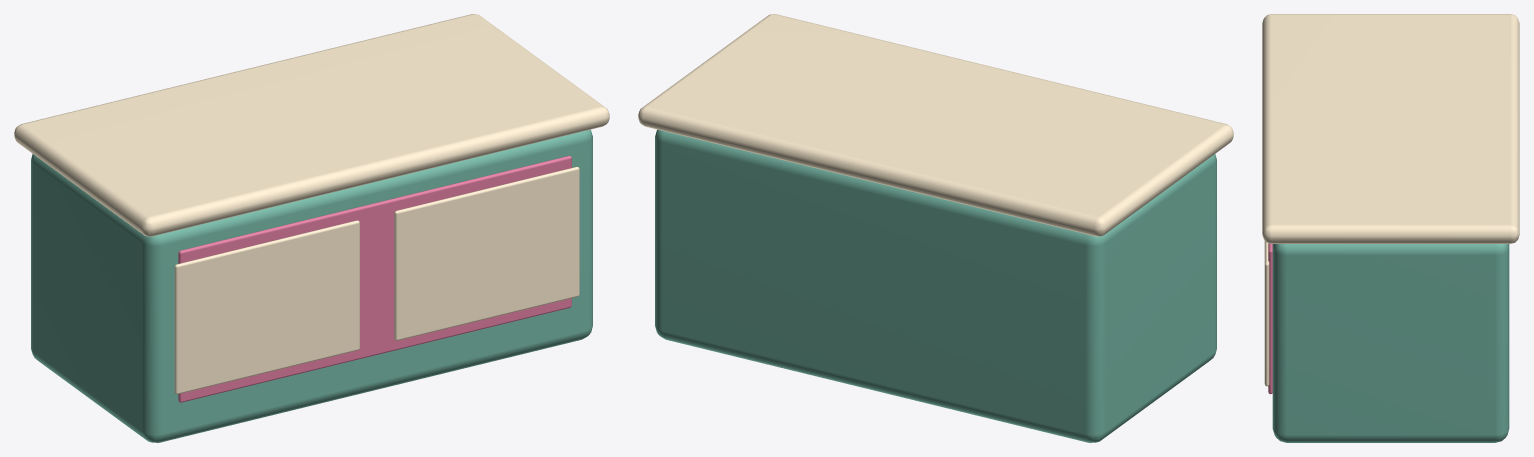
The model's file is Service_counter.fbx.
The picture shows the model from 3 angles, left to right: view 1: azimuth 30°, elevation 25°; view 2: azimuth 150°, elevation 25°; view 3: azimuth 270°, elevation 25°; orthographic projection. The views are drawn at different scales.
Visible parts, largest first — view 1: Toon_Service_counter Countertop.001, Toon_Service_counter Counter cabinet.001, Toon_Service_counter Raised cream trim.002, Toon_Service_counter Raised cream trim.003, Toon_Service_counter Front inset.001; view 2: Toon_Service_counter Counter cabinet.001, Toon_Service_counter Countertop.001; view 3: Toon_Service_counter Countertop.001, Toon_Service_counter Counter cabinet.001, Toon_Service_counter Raised cream trim.003, Toon_Service_counter Front inset.001.
Boxes of the visible parts, bbox=[...] form: Toon_Service_counter Countertop.001: bbox=[14, 14, 609, 236]; Toon_Service_counter Counter cabinet.001: bbox=[31, 129, 592, 442]; Toon_Service_counter Raised cream trim.002: bbox=[174, 220, 359, 394]; Toon_Service_counter Raised cream trim.003: bbox=[394, 167, 579, 340]; Toon_Service_counter Front inset.001: bbox=[178, 156, 571, 402]; Toon_Service_counter Counter cabinet.001: bbox=[655, 129, 1216, 442]; Toon_Service_counter Countertop.001: bbox=[638, 14, 1233, 236]; Toon_Service_counter Countertop.001: bbox=[1262, 14, 1519, 243]; Toon_Service_counter Counter cabinet.001: bbox=[1272, 244, 1509, 442]; Toon_Service_counter Raised cream trim.003: bbox=[1264, 241, 1269, 386]; Toon_Service_counter Front inset.001: bbox=[1268, 243, 1272, 394].
Bounding box in the file's own units: 200 × 96 × 100.
